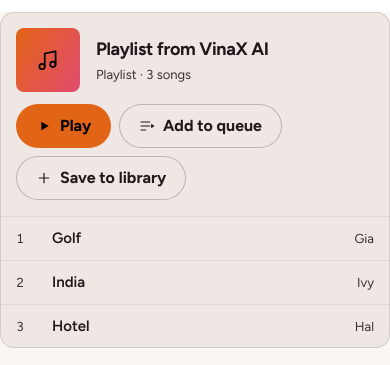
PlaylistCard › Add to queue adds every song found, in order
This screenshot has width=390, height=365.
Later steps or results of the test are not shown.
Click the button "Add to queue" at [201, 126], box [119,104,282,148]
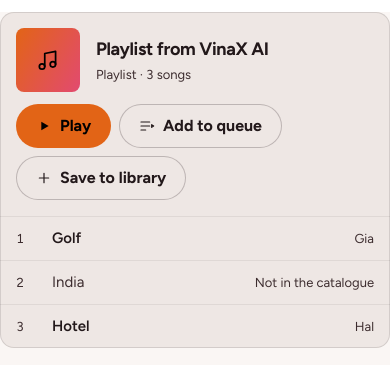
expect the text "Not in the catalogue" is shown: met, box [255,273,374,292]
